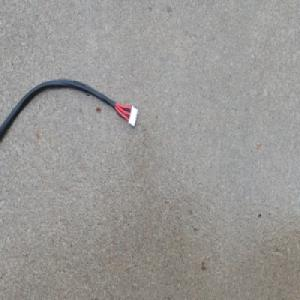Wire: (0, 76, 138, 149)
